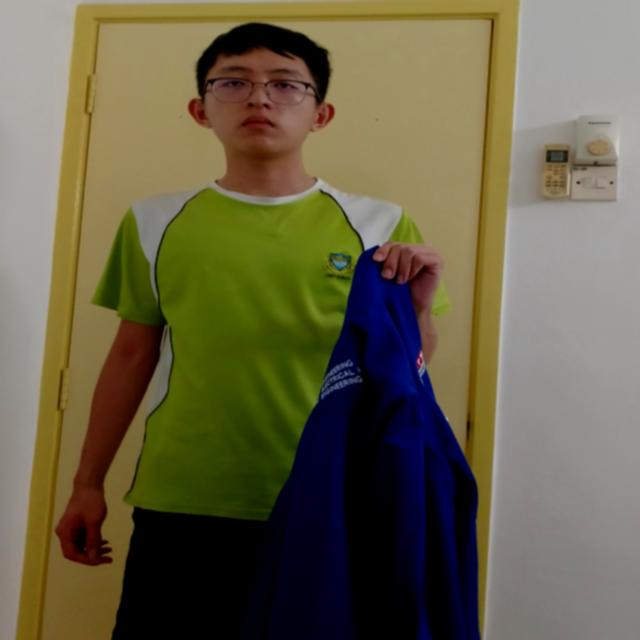person_without_labcoat: (59, 24, 477, 640)
